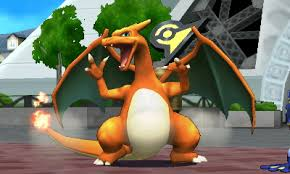charizard: (31, 18, 260, 170)
